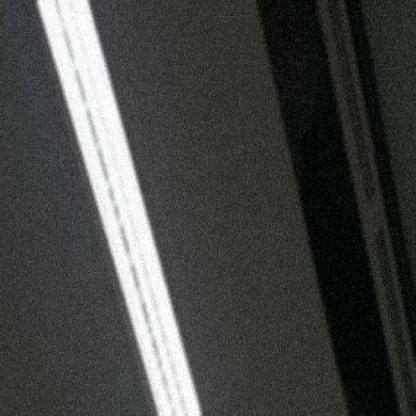light_on: (32, 0, 213, 415)
